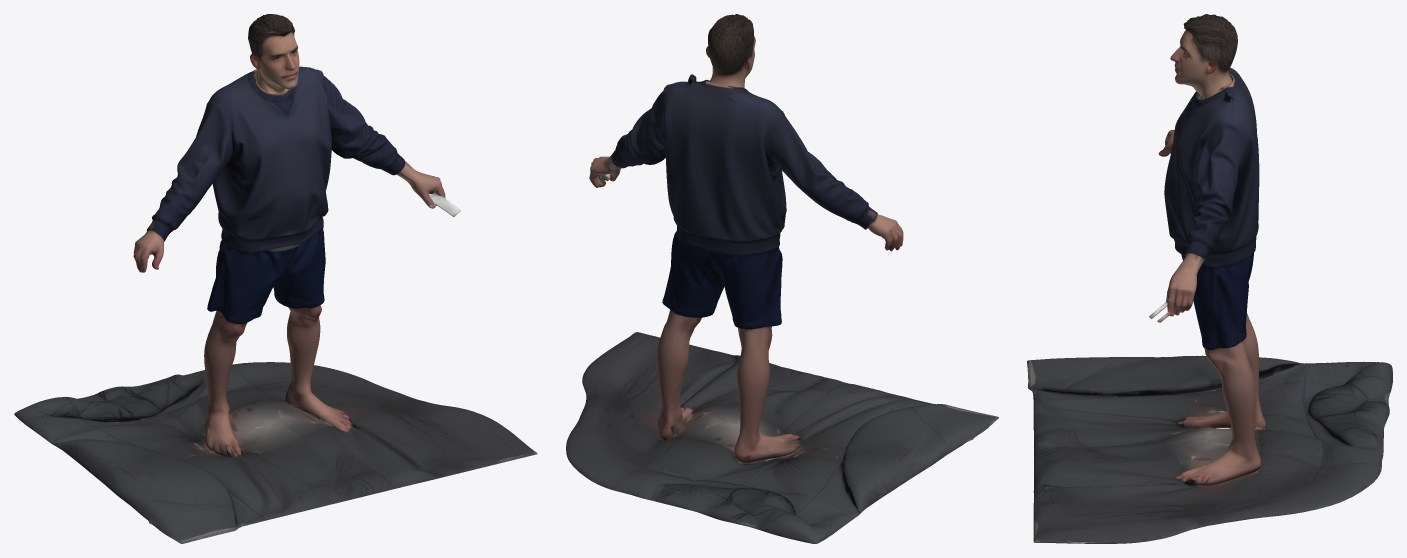
The model's file is Matt.glb.
3 renders of one model, left to right at view 1: azimuth 30°, elevation 25°; view 2: azimuth 150°, elevation 25°; view 3: azimuth 270°, elevation 25°, orthographic. The views are drawn at different scales.
Visible parts, largest first — view 1: node_0; view 2: node_0; view 3: node_0.
Part boxes in pixels (box(x1,y1,x2,y2)): node_0: box(14, 14, 537, 543); node_0: box(566, 14, 998, 543); node_0: box(1027, 14, 1392, 543).
Size of the model in its own units: 0.7091 by 0.782 by 0.5945.
Materials: 1 (1 with a texture image).
